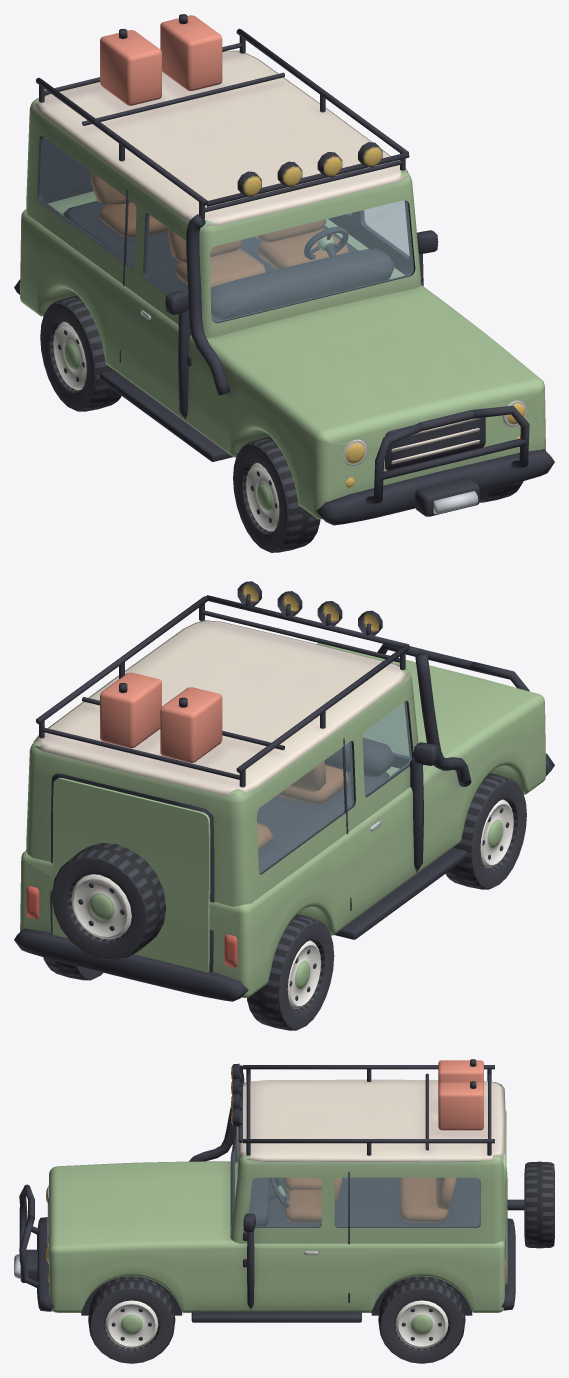
File: off-road-4x4.glb
3 views of the same model, one above another, from view 1: azimuth 30°, elevation 25°; view 2: azimuth 150°, elevation 25°; view 3: azimuth 270°, elevation 25° (orthographic). The views are drawn at different scales.
Parts seen in each view (by area): view 1: off-road-4x4_body, off-road-4x4_windows, off-road-4x4_wheel_fr, off-road-4x4_wheel_rr; view 2: off-road-4x4_body, off-road-4x4_rear_door, off-road-4x4_windows, off-road-4x4_wheel_rr, off-road-4x4_wheel_fr, off-road-4x4_wheel_rl; view 3: off-road-4x4_body, off-road-4x4_windows, off-road-4x4_wheel_rl, off-road-4x4_wheel_fl, off-road-4x4_rear_door.
Boxes of the visible parts, box(x1,y1,x2,y2) form: off-road-4x4_body: box(14, 14, 554, 525); off-road-4x4_windows: box(39, 136, 413, 322); off-road-4x4_wheel_fr: box(233, 436, 320, 552); off-road-4x4_wheel_rr: box(40, 295, 121, 411); off-road-4x4_body: box(14, 581, 554, 1001); off-road-4x4_rear_door: box(51, 778, 210, 972); off-road-4x4_windows: box(257, 701, 411, 873); off-road-4x4_wheel_rr: box(247, 914, 334, 1030); off-road-4x4_wheel_fr: box(445, 773, 526, 889); off-road-4x4_wheel_rl: box(43, 957, 103, 980); off-road-4x4_body: box(14, 1059, 515, 1322); off-road-4x4_windows: box(233, 1130, 480, 1226); off-road-4x4_wheel_rl: box(378, 1276, 465, 1363); off-road-4x4_wheel_fl: box(88, 1276, 175, 1363); off-road-4x4_rear_door: box(504, 1111, 554, 1284).
Size of the model in its own units: 2.15 by 2.53 by 4.96.
Materials: 23 (6 with a texture image).
